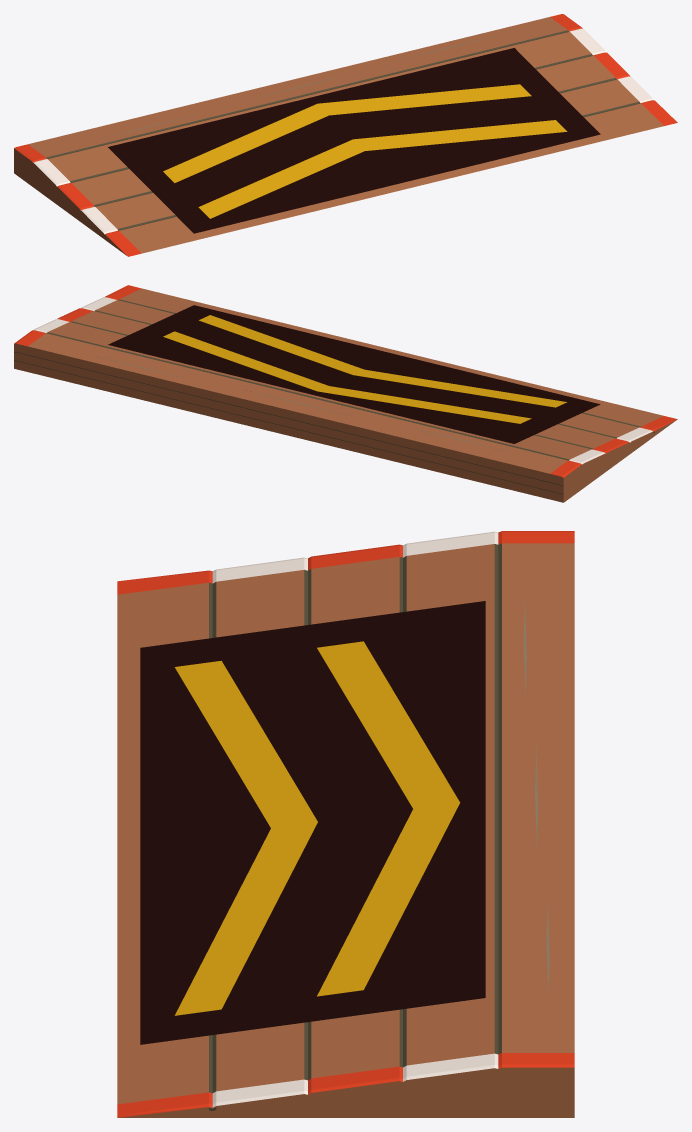
The model's file is jumpKicker.glb.
3 views of the same model, one above another, from view 1: azimuth 30°, elevation 25°; view 2: azimuth 150°, elevation 25°; view 3: azimuth 270°, elevation 25° (orthographic). The views are drawn at different scales.
Visible parts, largest first — view 1: jumpKicker; view 2: jumpKicker; view 3: jumpKicker.
Boxes of the visible parts, left/top/right/bottom form: jumpKicker: left=14, top=14, right=677, bottom=256; jumpKicker: left=14, top=285, right=677, bottom=502; jumpKicker: left=117, top=531, right=574, bottom=1117.
Size of the model in its own units: 10 by 0.4492 by 3.6.
1 material, 1 textured.
